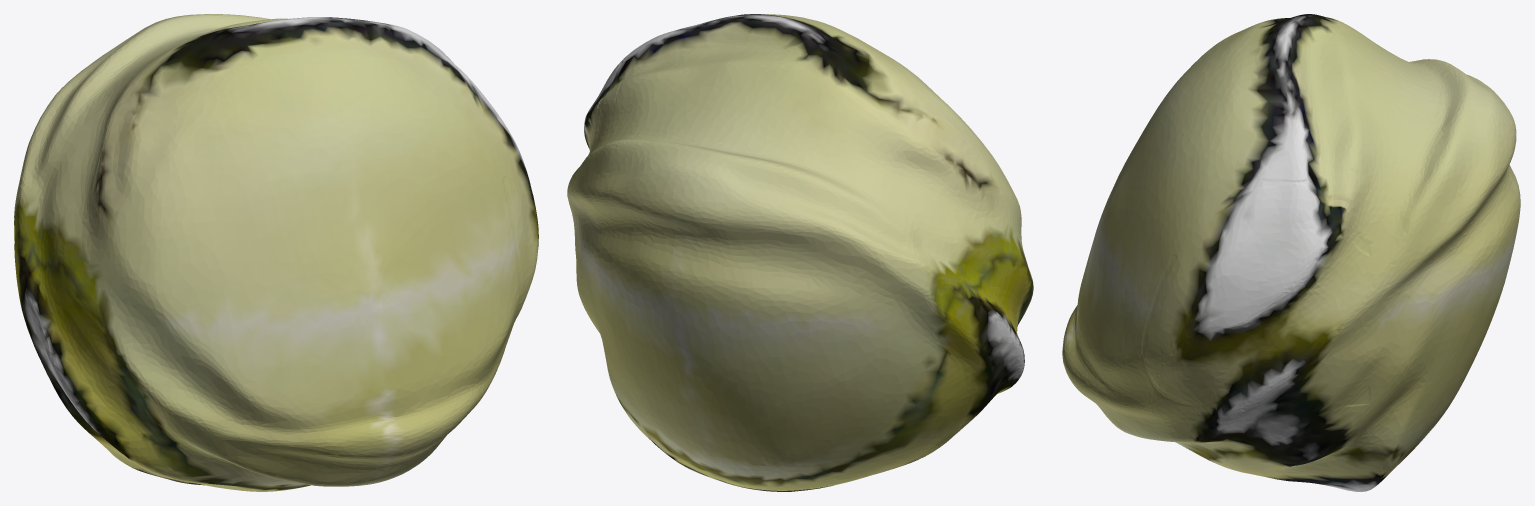
File: goldround.glb
3 views of the same model, side by side, from view 1: azimuth 30°, elevation 25°; view 2: azimuth 150°, elevation 25°; view 3: azimuth 270°, elevation 25° (orthographic). The views are drawn at different scales.
Visible parts, largest first — view 1: geometry_0; view 2: geometry_0; view 3: geometry_0.
Boxes of the visible parts, x1=… form: geometry_0: x1=14, y1=14, x2=538, y2=491; geometry_0: x1=567, y1=14, x2=1033, y2=491; geometry_0: x1=1062, y1=14, x2=1520, y2=491.
Size of the model in its own units: 0.75 by 0.7536 by 0.701.
